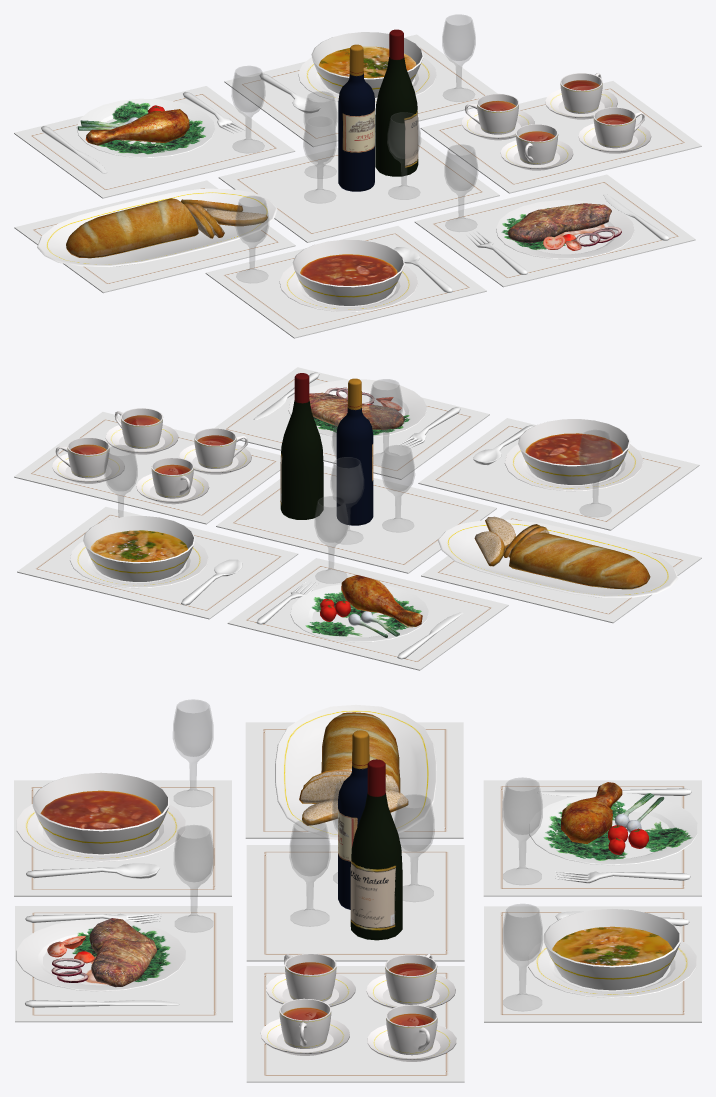
Rendered from Food_and_Drink_fbx.FBX.
3 views of the same model, one above another, from view 1: azimuth 30°, elevation 25°; view 2: azimuth 150°, elevation 25°; view 3: azimuth 270°, elevation 25° (orthographic). The views are drawn at different scales.
Parts seen in each view (by area): view 1: Napkin_7, Plate_5, Napkin_2, Napkin_4, Napkin_5, Napkin_3, Plate_3, Napkin_1, Plate_4, Plate_1q, Napkin_6, Plate_2 (+17 smaller); view 2: Napkin_7, Plate_5, Napkin_3, Napkin_2, Napkin_1, Napkin_5, Plate_3, Plate_2, Napkin_4, Plate_1q, Napkin_6, Wine_2 (+16 smaller); view 3: Napkin_7, Napkin_4, Napkin_2, Plate_5, Napkin_1, Napkin_3, Napkin_5, Plate_3, Plate_2, Plate_1q, Plate_4, Napkin_6 (+19 smaller).
Boxes of the visible parts, x1,y1,x2,y2 form: Napkin_7: [218, 135, 499, 242]; Plate_5: [37, 188, 277, 267]; Napkin_2: [14, 86, 295, 198]; Napkin_4: [414, 174, 695, 287]; Napkin_5: [420, 81, 701, 193]; Napkin_3: [205, 226, 486, 338]; Plate_3: [279, 239, 418, 312]; Napkin_1: [224, 34, 497, 147]; Plate_4: [496, 200, 634, 259]; Plate_1q: [76, 98, 215, 157]; Napkin_6: [14, 180, 295, 293]; Plate_2: [298, 32, 436, 104]; Napkin_7: [216, 465, 496, 573]; Plate_5: [438, 516, 678, 598]; Napkin_3: [418, 418, 699, 530]; Napkin_2: [227, 558, 508, 670]; Napkin_1: [17, 507, 298, 619]; Napkin_5: [14, 412, 280, 524]; Plate_3: [504, 419, 643, 491]; Plate_2: [70, 516, 208, 588]; Napkin_4: [214, 367, 489, 479]; Plate_1q: [290, 575, 428, 642]; Napkin_6: [421, 510, 701, 623]; Wine_2: [280, 373, 323, 519]; Napkin_7: [246, 845, 464, 961]; Napkin_4: [15, 906, 232, 1022]; Napkin_2: [483, 780, 701, 896]; Plate_5: [275, 704, 436, 839]; Napkin_1: [484, 906, 701, 1022]; Napkin_3: [14, 780, 231, 896]; Napkin_5: [246, 966, 464, 1082]; Plate_3: [16, 772, 185, 861]; Plate_2: [528, 909, 696, 997]; Plate_1q: [529, 782, 697, 865]; Plate_4: [16, 918, 185, 991]; Napkin_6: [245, 722, 463, 838].
Size of the model in its own units: 1.35 by 0.2925 by 1.07.
Materials: 11 (9 with a texture image).
